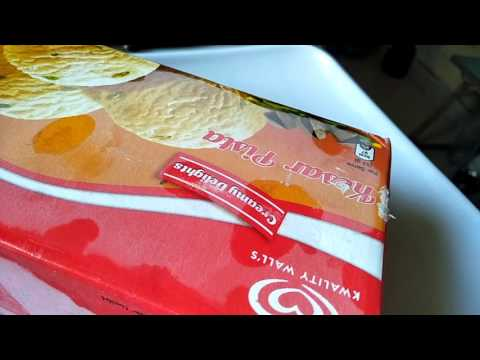Kwality_Walls: (244, 265, 343, 314)
